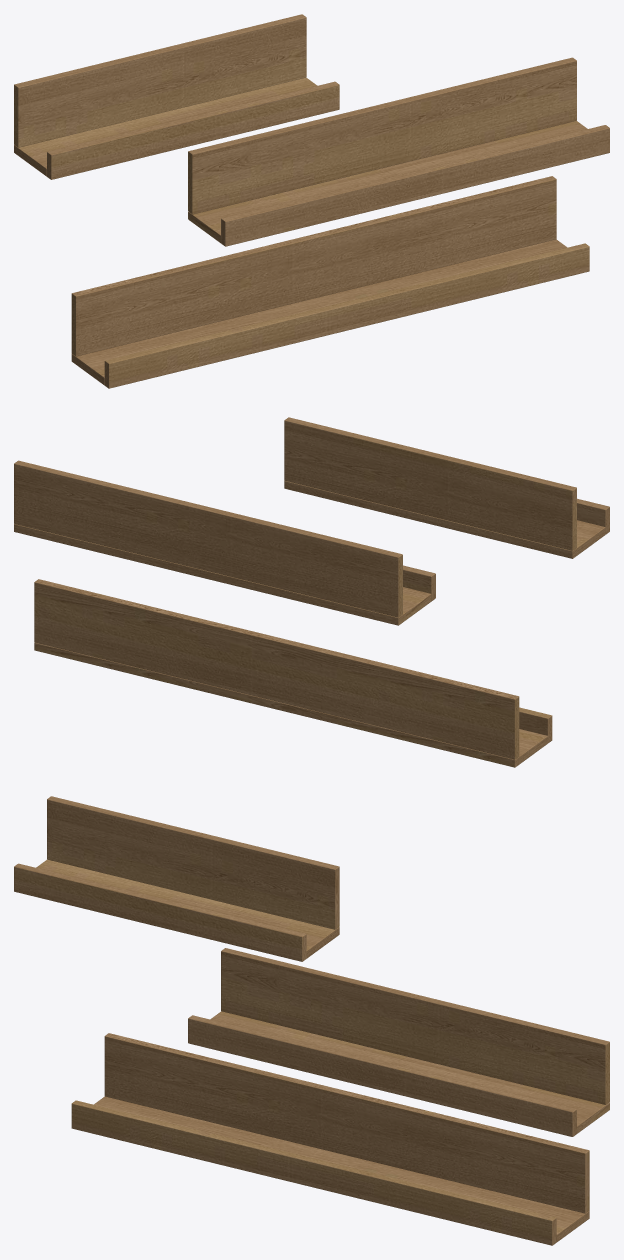
Rendered from 3-pieces-asymmetric-shelves.obj.
3 views of the same model, one above another, from view 1: azimuth 30°, elevation 25°; view 2: azimuth 150°, elevation 25°; view 3: azimuth 330°, elevation 25° (orthographic).
Visible parts, largest first — view 1: Box005; view 2: Box005; view 3: Box005.
Boxes of the visible parts, x1,y1,x2,y2 form: Box005: [14, 14, 609, 388]; Box005: [14, 417, 609, 767]; Box005: [14, 796, 609, 1245].
Size of the model in its own units: 116 by 57.86 by 13.46.
1 material, 1 textured.
